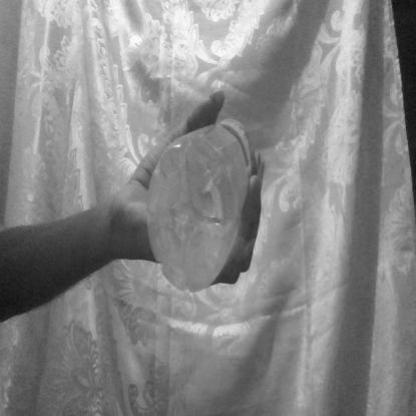Plastic Bottle: (142, 82, 275, 306)
